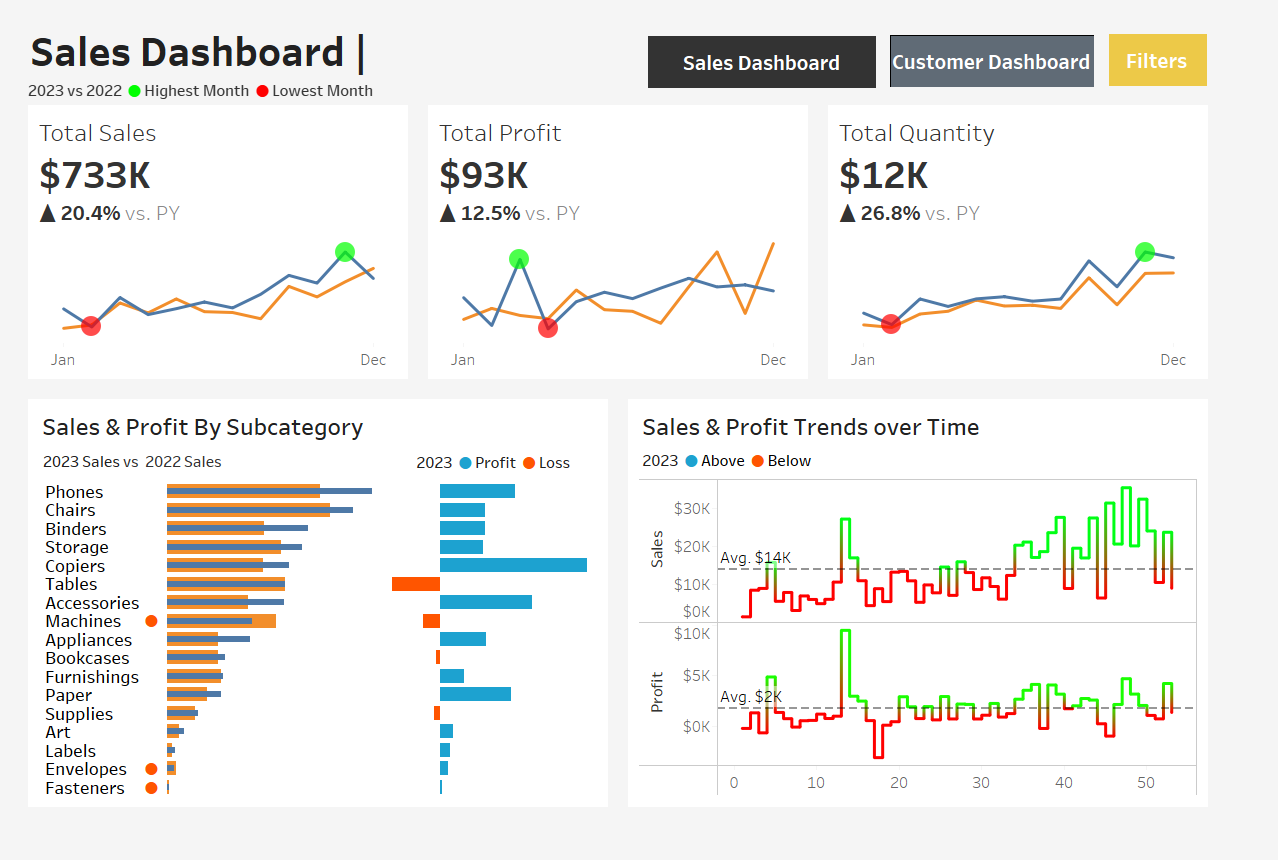

The page's visual inventory and layout, read from the dashboard file:
{"tool":"tableau","page":{"name":"Sales Dashboard","canvas":[1200,800],"ordinal":1},"visuals":[{"type":"text","box":[9,5,450,56]},{"type":"dashboard-object","box":[1091,17,98,52]},{"type":"dashboard-object","box":[872,18,204,52]},{"type":"dashboard-object","box":[630,19,228,52]},{"type":"worksheet","title":"Legend KPI","mark":"Automatic","box":[0,59,1200,29]},{"type":"worksheet","title":"KPI Sales","mark":"Automatic","rows":["Calculation_721701895347843083"],"cols":["Order Date"],"box":[0,88,400,284]},{"type":"worksheet","title":"KPI Profit","mark":"Automatic","rows":["Min/Max Sales (copy)_237846410425847814"],"cols":["Order Date"],"box":[400,88,400,284]},{"type":"worksheet","title":"KPI Quantity","mark":"Automatic","rows":["Min/Max Sales (copy) (copy)_237846410425856007"],"cols":["Order Date"],"box":[800,88,400,284]},{"type":"text","box":[952,96,237,37]},{"type":"parameter","param":"[Parameters].[Parameter 1]","box":[952,133,237,55]},{"type":"text","box":[952,188,237,32]},{"type":"filter","title":"KPI Sales","param":"[federated.1kpxa041aiai2y1cl4pui1t4eju9].[none:Category:nk]","box":[952,220,237,57]},{"type":"filter","title":"KPI Sales","param":"[federated.1kpxa041aiai2y1cl4pui1t4eju9].[none:Sub-Category:nk]","box":[952,277,237,57]},{"type":"blank","box":[952,334,237,60]},{"type":"text","box":[17,389,566,40]},{"type":"text","box":[617,389,566,40]},{"type":"text","box":[952,394,237,32]},{"type":"filter","title":"KPI Sales","param":"[federated.1kpxa041aiai2y1cl4pui1t4eju9].[none:Region:nk]","box":[952,426,237,57]},{"type":"worksheet","title":"Legend Subcategory","mark":"Automatic","box":[17,429,374,32]},{"type":"text","box":[391,429,192,32]},{"type":"text","box":[617,429,566,29]},{"type":"worksheet","title":"Weekly Trends","mark":"Automatic","rows":["Calculation_721701895334993921","CY Sales (copy)_237846410424180736"],"cols":["Order Date"],"box":[617,458,566,325]},{"type":"worksheet","title":"Subcategory Comparison","mark":"Bar","rows":["Sub-Category","Calculation_2435040078806671369"],"cols":["CY Sales (copy)_721701895335804930","Calculation_721701895334993921","CY Sales (copy)_237846410424180736"],"box":[17,461,566,321.9]},{"type":"filter","title":"KPI Sales","param":"[federated.1kpxa041aiai2y1cl4pui1t4eju9].[none:State:nk]","box":[952,483,237,57]},{"type":"filter","title":"KPI Sales","param":"[federated.1kpxa041aiai2y1cl4pui1t4eju9].[none:City:nk]","box":[952,540,237,57]}]}

Visuals, with their boxes in screenshot pixels (x1, y1, x2, y2), scaled from the page's 1200x800 canvas onto the 1278x860 screenshot:
text: [left=10, top=5, right=489, bottom=66]
dashboard-object: [left=1162, top=18, right=1266, bottom=74]
dashboard-object: [left=929, top=19, right=1146, bottom=75]
dashboard-object: [left=671, top=20, right=914, bottom=76]
"Legend KPI" worksheet: [left=0, top=63, right=1277, bottom=95]
"KPI Sales" worksheet: [left=0, top=95, right=426, bottom=400]
"KPI Profit" worksheet: [left=426, top=95, right=852, bottom=400]
"KPI Quantity" worksheet: [left=852, top=95, right=1277, bottom=400]
text: [left=1014, top=103, right=1266, bottom=143]
parameter: [left=1014, top=143, right=1266, bottom=202]
text: [left=1014, top=202, right=1266, bottom=236]
"KPI Sales" filter: [left=1014, top=236, right=1266, bottom=298]
"KPI Sales" filter: [left=1014, top=298, right=1266, bottom=359]
blank: [left=1014, top=359, right=1266, bottom=424]
text: [left=18, top=418, right=621, bottom=461]
text: [left=657, top=418, right=1260, bottom=461]
text: [left=1014, top=424, right=1266, bottom=458]
"KPI Sales" filter: [left=1014, top=458, right=1266, bottom=519]
"Legend Subcategory" worksheet: [left=18, top=461, right=416, bottom=496]
text: [left=416, top=461, right=621, bottom=496]
text: [left=657, top=461, right=1260, bottom=492]
"Weekly Trends" worksheet: [left=657, top=492, right=1260, bottom=842]
"Subcategory Comparison" worksheet (Bar marks): [left=18, top=496, right=621, bottom=842]
"KPI Sales" filter: [left=1014, top=519, right=1266, bottom=580]
"KPI Sales" filter: [left=1014, top=580, right=1266, bottom=642]
